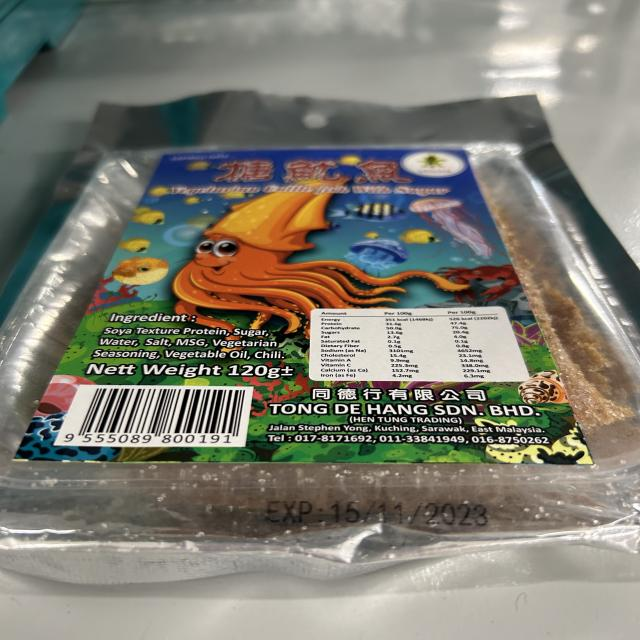object_name: (68, 114, 631, 532)
